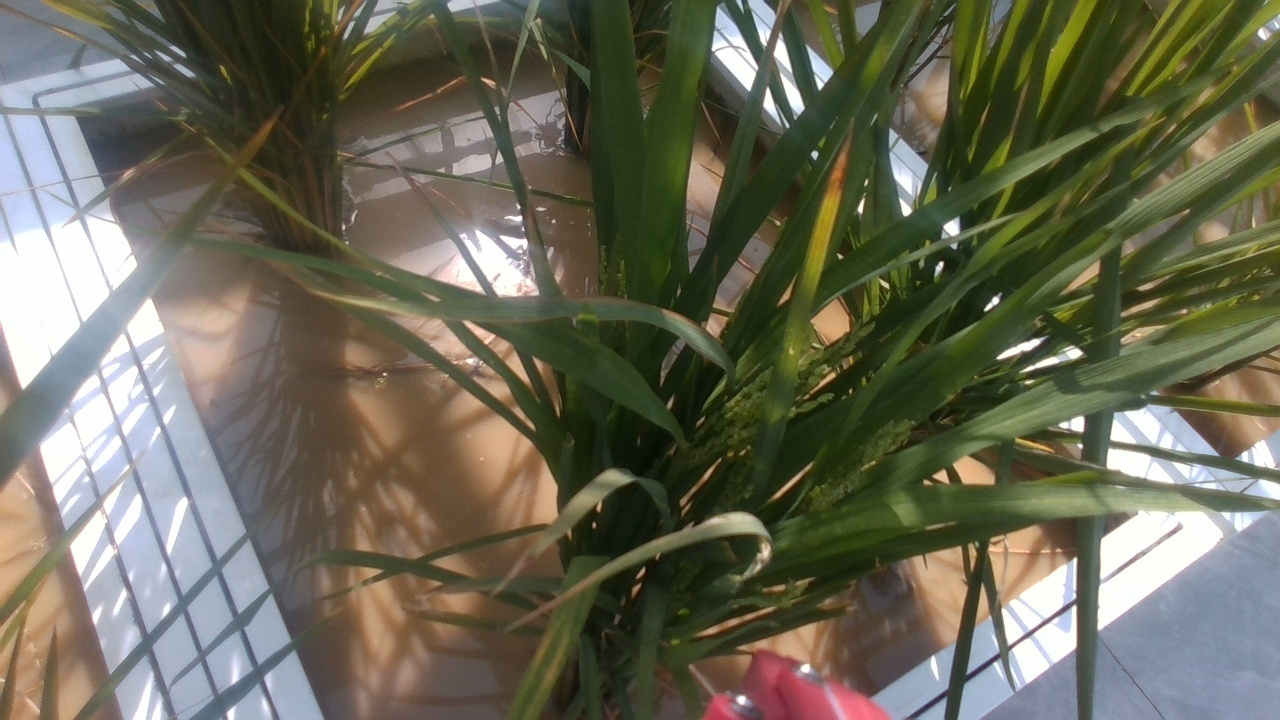panicle: (700, 310, 858, 456), (809, 407, 913, 508)
